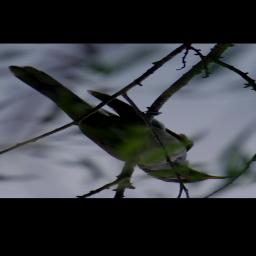Cuckoo: (0, 64, 227, 184)
